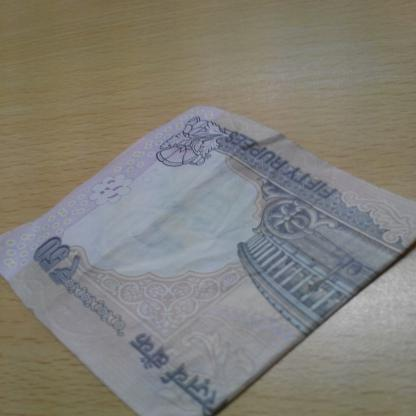Old50Back: (0, 104, 416, 416)
